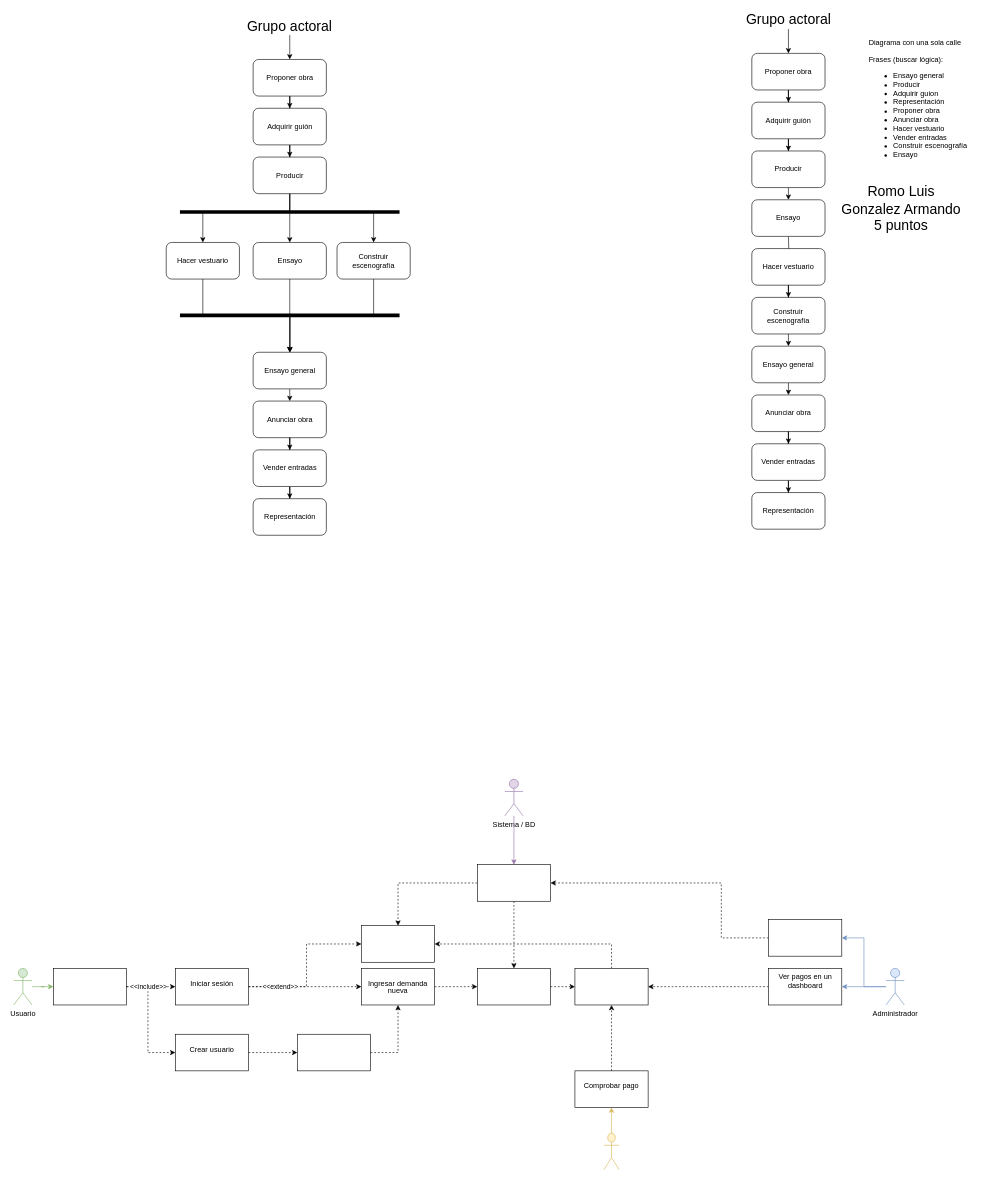
The diagram is 988 pixels wide and 1193 high, and some of its shapes have lost their labels. The box of each missing label's shape, as (x1, y1, x2, y2) in pixels:
Actualizar la información de la demanda: (768, 919, 842, 956)
Banco: (603, 1132, 619, 1170)
Generar documento legal en formato Word en base al formulario: (477, 864, 551, 901)
Ingresar al sitio: (53, 968, 127, 1005)
Ingresar información al formulario de la demanda: (477, 968, 551, 1005)
Ingresar información de registro: (297, 1034, 371, 1071)
Realizar pago: (574, 968, 648, 1005)
Revisar estado de demanda: (361, 925, 435, 962)
